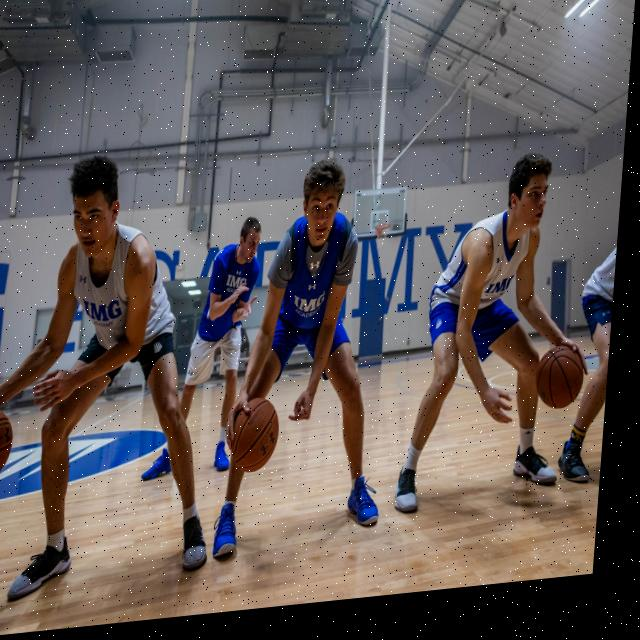basketball: (228, 395, 282, 475), (533, 343, 586, 411), (0, 404, 15, 489)
hoop: (374, 223, 390, 243)
